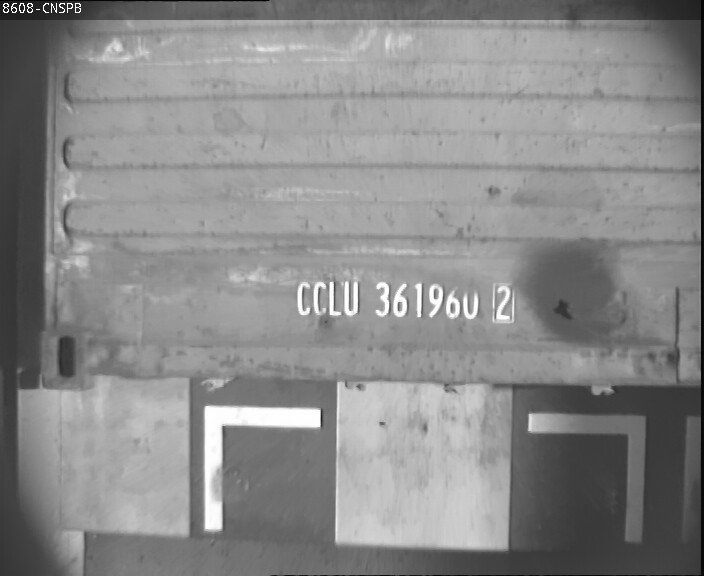groundmarker_1: (530, 411, 703, 540)
